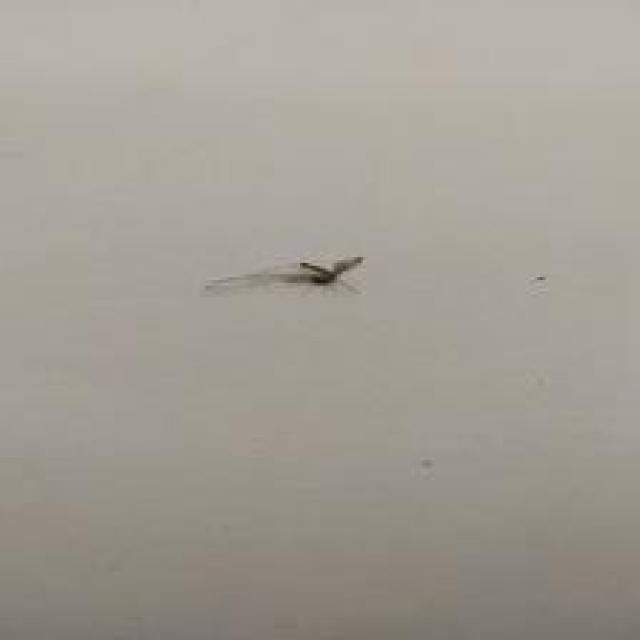Culex: (204, 253, 364, 296)
